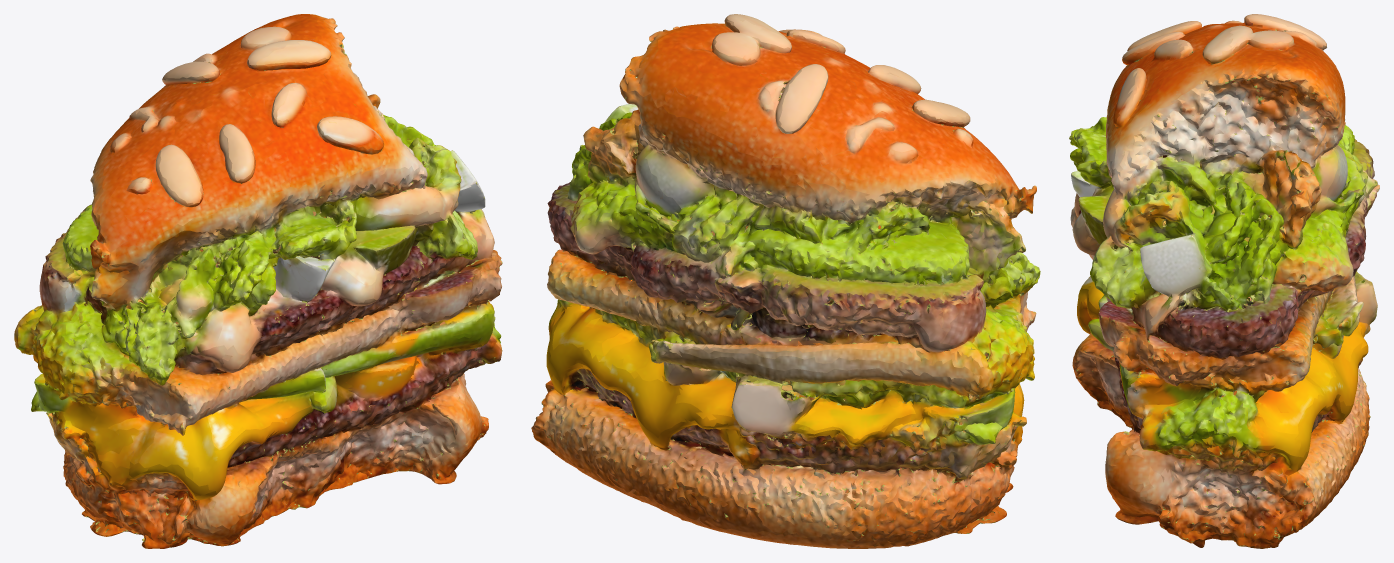
The picture shows the model from 3 angles, left to right: view 1: azimuth 30°, elevation 25°; view 2: azimuth 150°, elevation 25°; view 3: azimuth 270°, elevation 25°; orthographic projection. The views are drawn at different scales.
Parts seen in each view (by area): view 1: geometry_0; view 2: geometry_0; view 3: geometry_0.
Part boxes in pixels (x1,y1,x2,y2): geometry_0: (14, 14, 502, 548); geometry_0: (531, 14, 1040, 548); geometry_0: (1069, 14, 1379, 548).
Bounding box in the file's own units: 0.1343 × 0.13 × 0.0821.
Materials: 1 (1 with a texture image).
